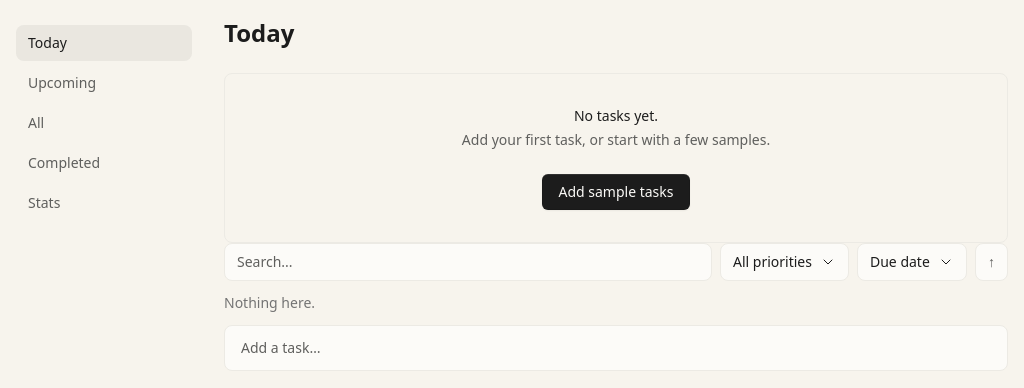
Test: AppShell › switches the heading when a nav item is clicked
// Click the first "Upcoming" button (desktop sidebar)
Click the button "Upcoming": (104, 83) [16,65,192,101]
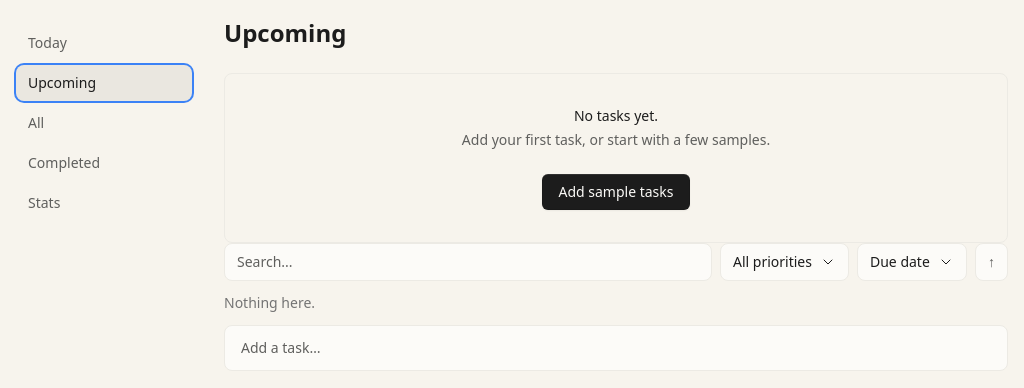
Now the heading "Upcoming" is shown, box [224,16,346,49]
